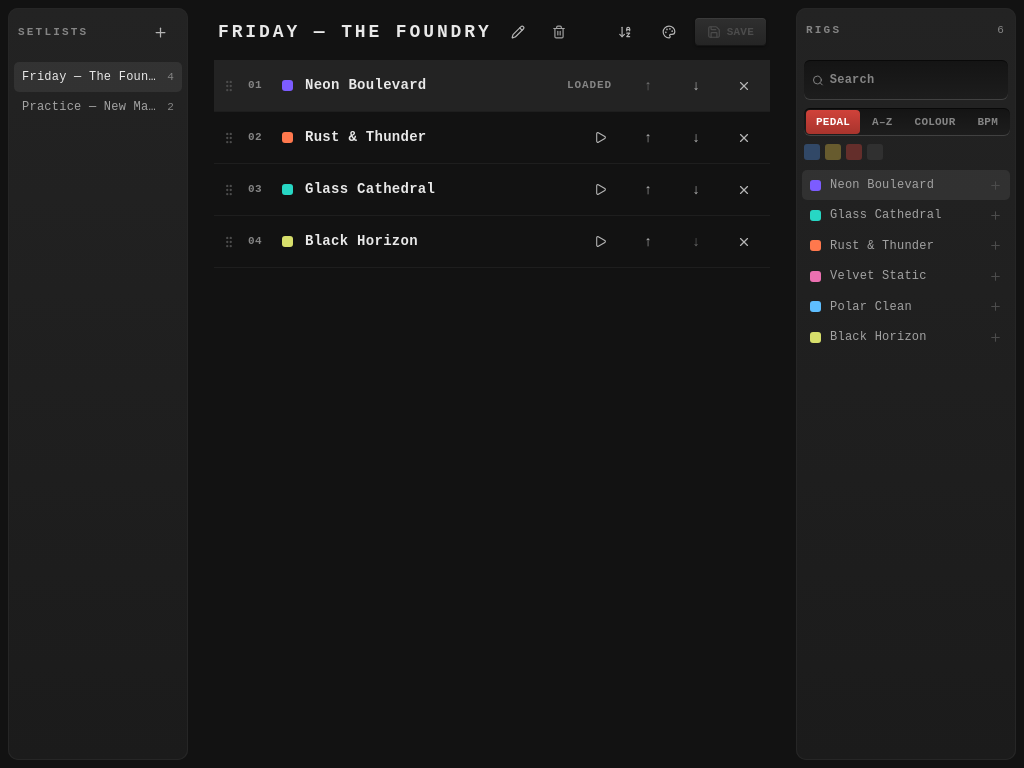
Test: LIBRARY · SETLISTS organizer › switches setlists and filters the rig column
This screenshot has width=1024, height=768.
Click the button "Practice — New Material 2": point(98, 108) 14,92 -> 182,123
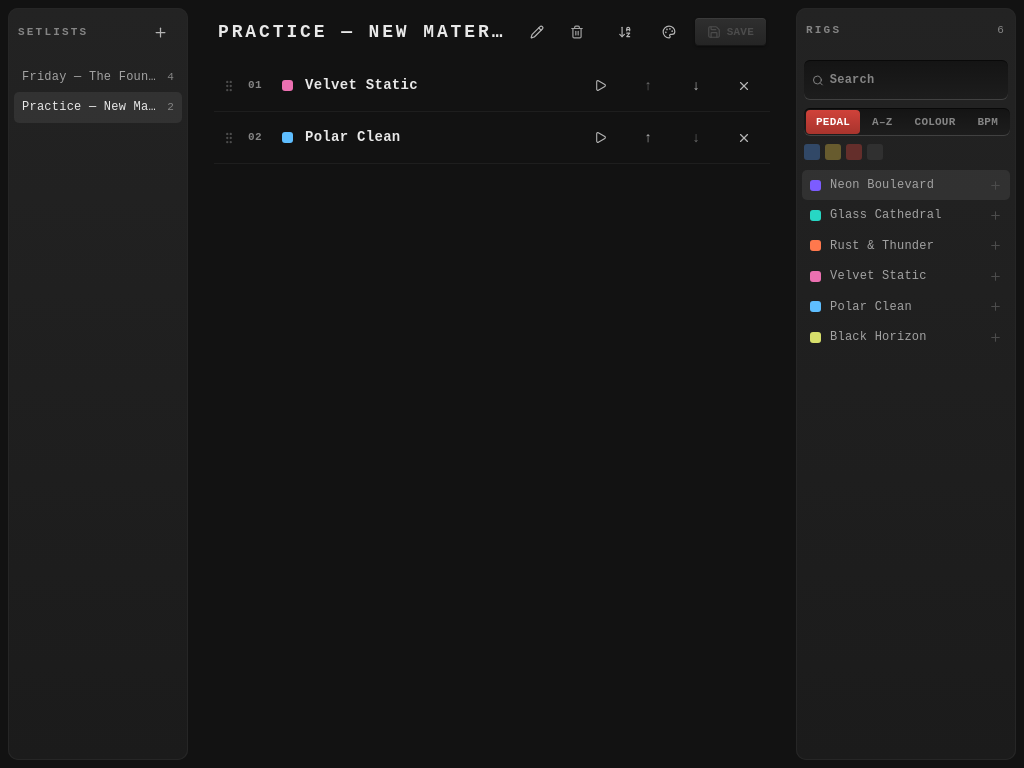
In the field named "Search rigs": point(915, 80) 830,60 -> 1000,100, type "glass"
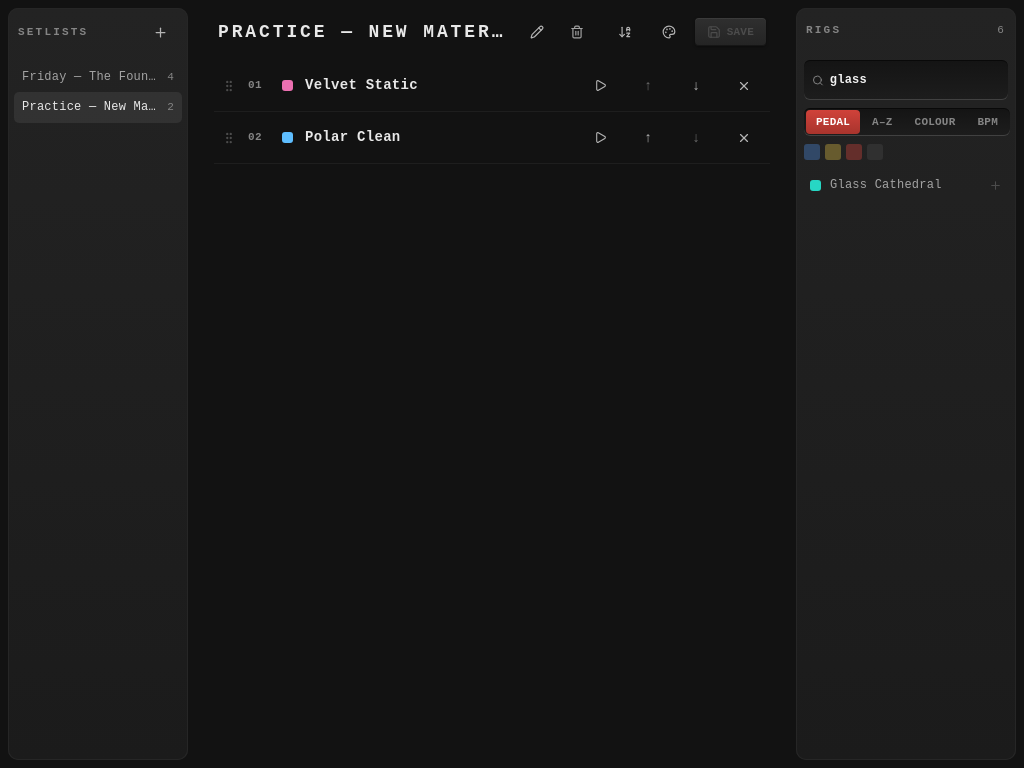
Check: the number of buttons named "Add " is 1, box 802,170 -> 1010,200
